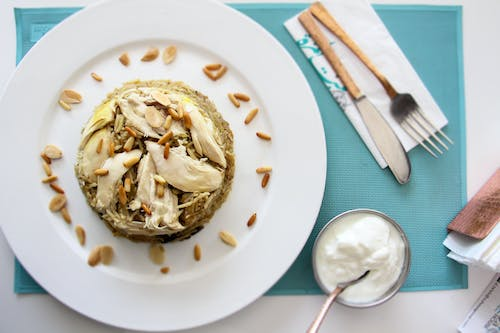knife: (297, 9, 412, 186)
